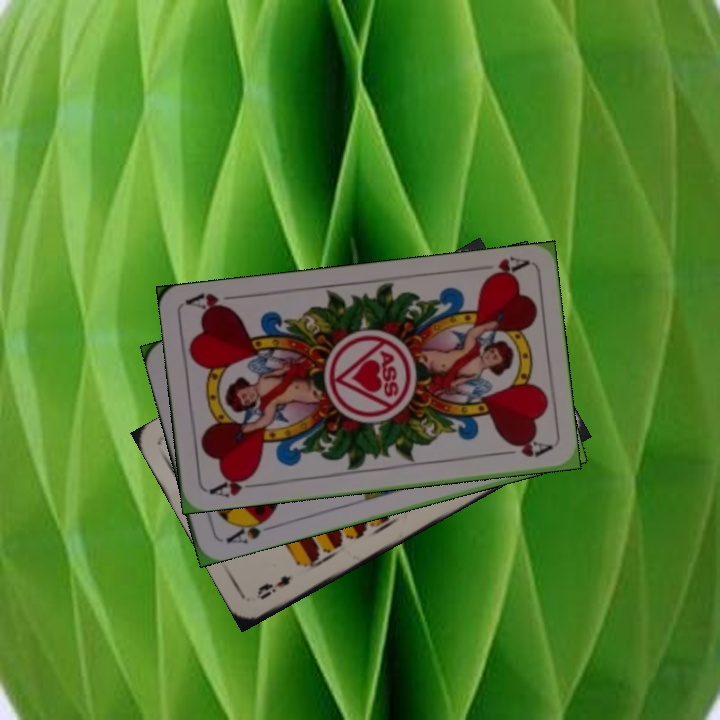E9: (252, 571, 294, 603)
HA: (205, 470, 264, 500), (481, 253, 531, 283)
SA: (222, 511, 274, 546)
